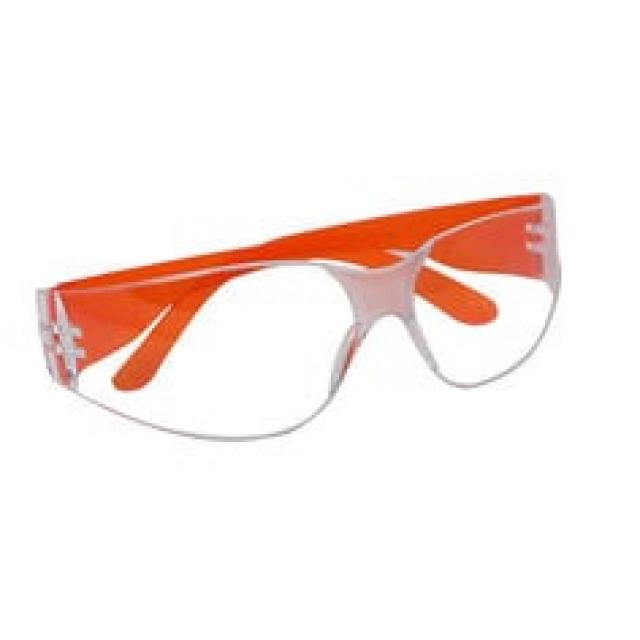Protective Glasses: (15, 189, 587, 438)
